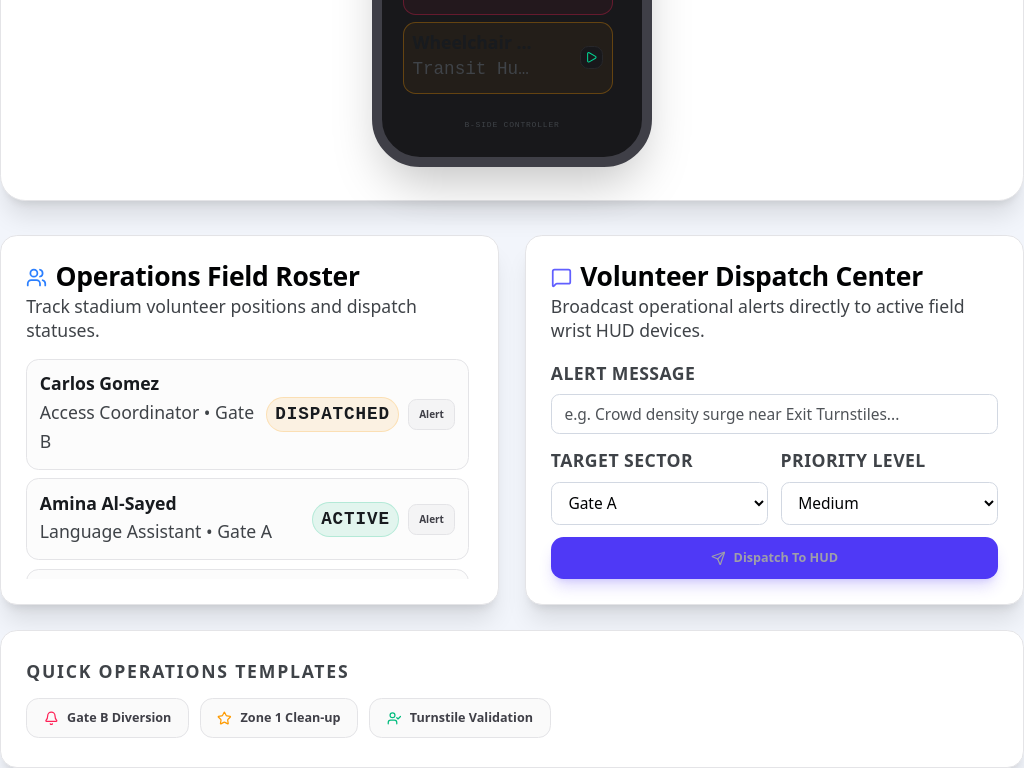
Test: VolunteerHUD Unit Component › handles quick templates clicking
This screenshot has width=1024, height=768.
(page scrolled)
# Template 1: Gate B Diversion
Click the button "Gate B Diversion". click: (108, 718)
box: [26,698,189,738]
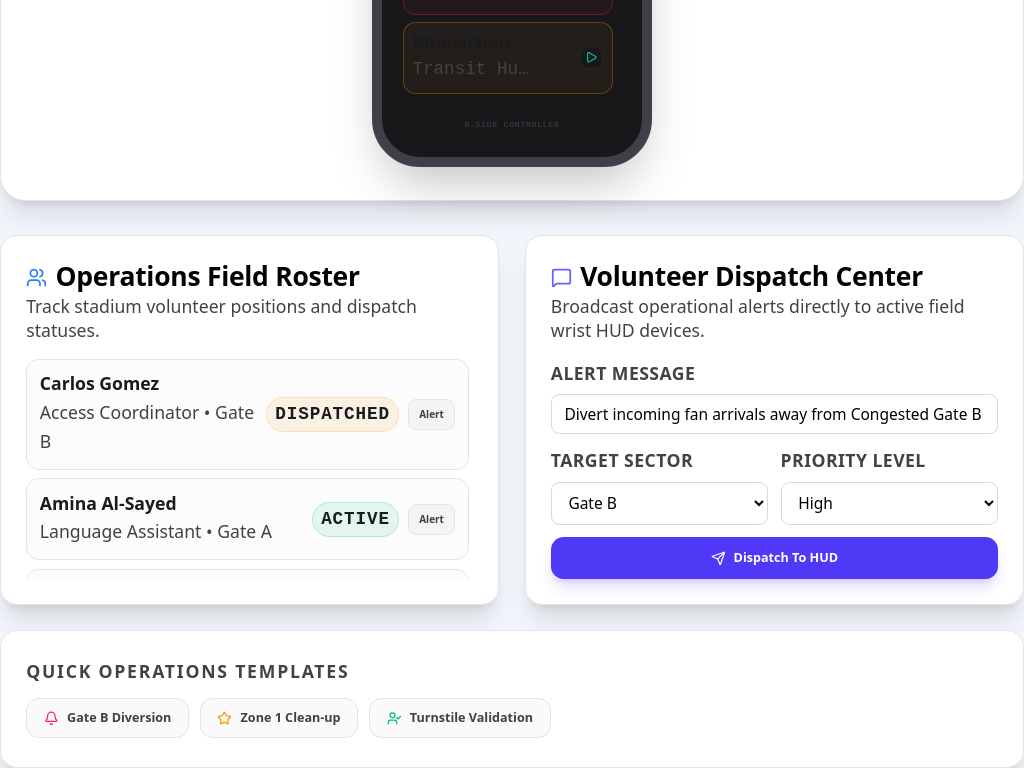
Now the field showing "Divert incoming fan arrivals away from Congested Gate B concourse." is shown, box [551,394,998,434]
# Template 2: Zone 1 Clean-up
Click the button "Zone 1 Clean-up". click: (279, 718)
box: [200,698,358,738]
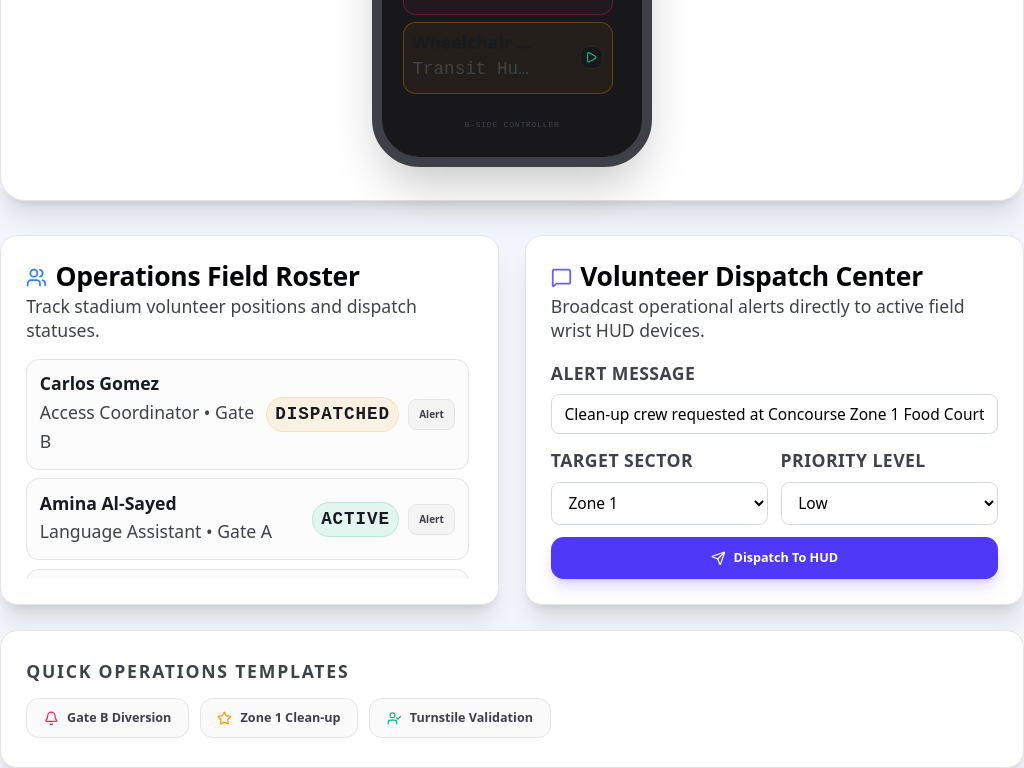
Now the field showing "Clean-up crew requested at Concourse Zone 1 Food Court." is shown, box [551,394,998,434]
# Template 3: Turnstile Validation
Click the button "Turnstile Validation". click: (460, 718)
box: [369,698,551,738]
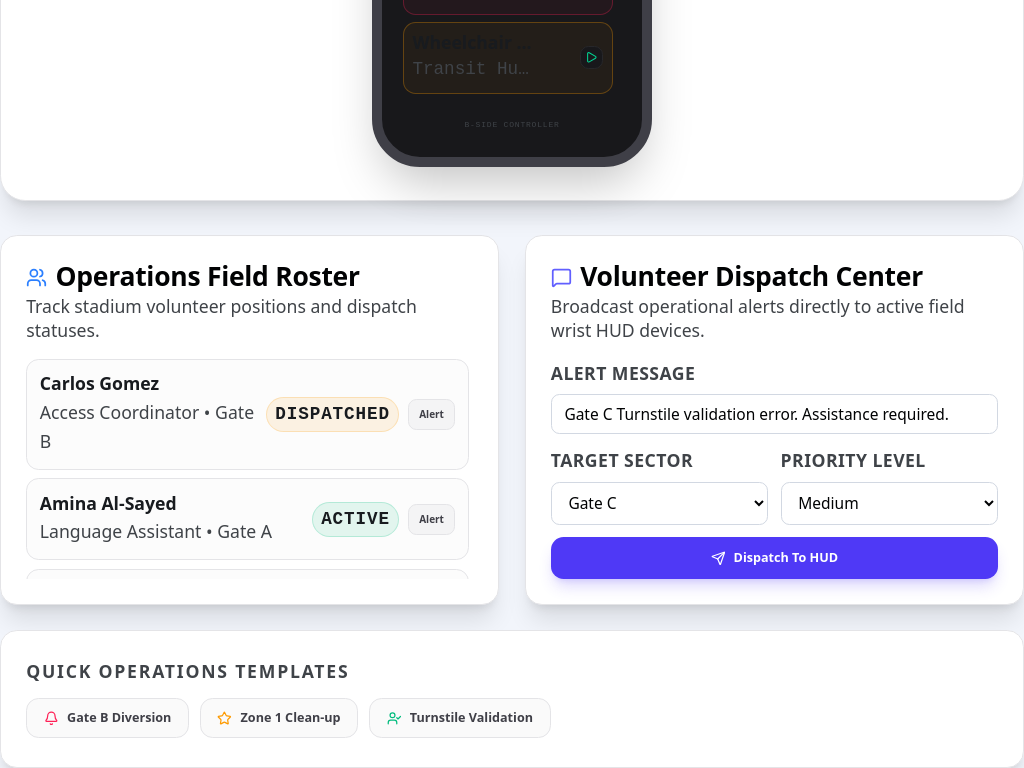
Now the field showing "Gate C Turnstile validation error. Assistance required." is shown, box [551,394,998,434]
